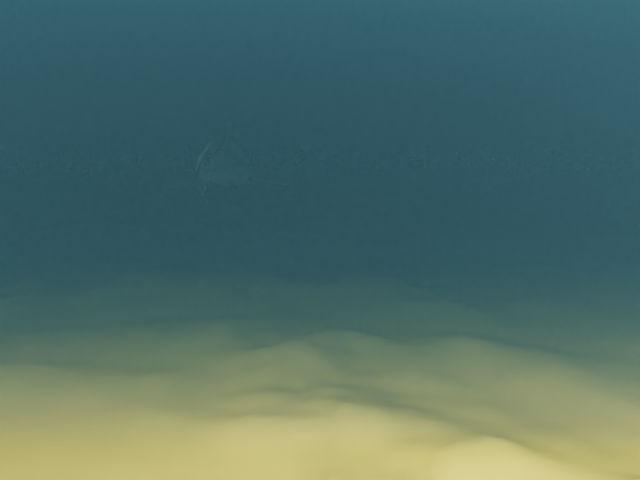Carribean Shark.001: (164, 120, 296, 203)
